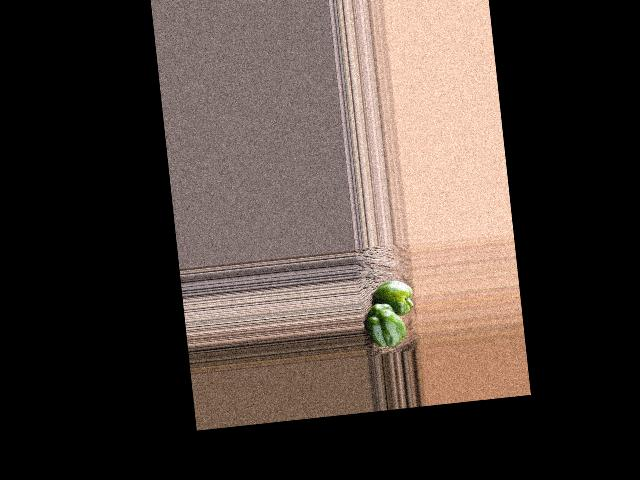bell_pepper: (366, 299, 408, 348)
